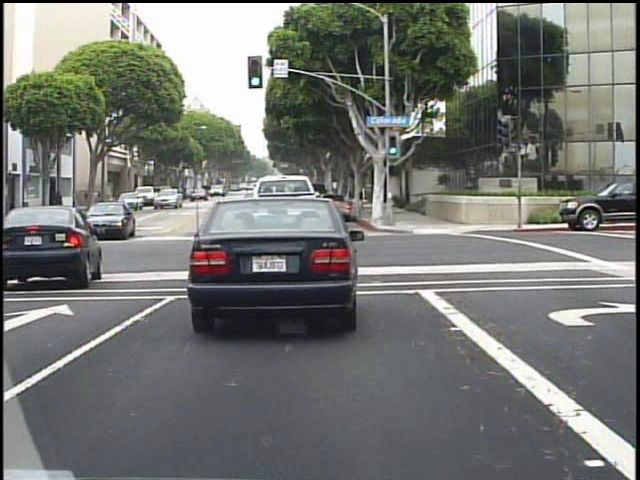person: (51, 188, 68, 220)
